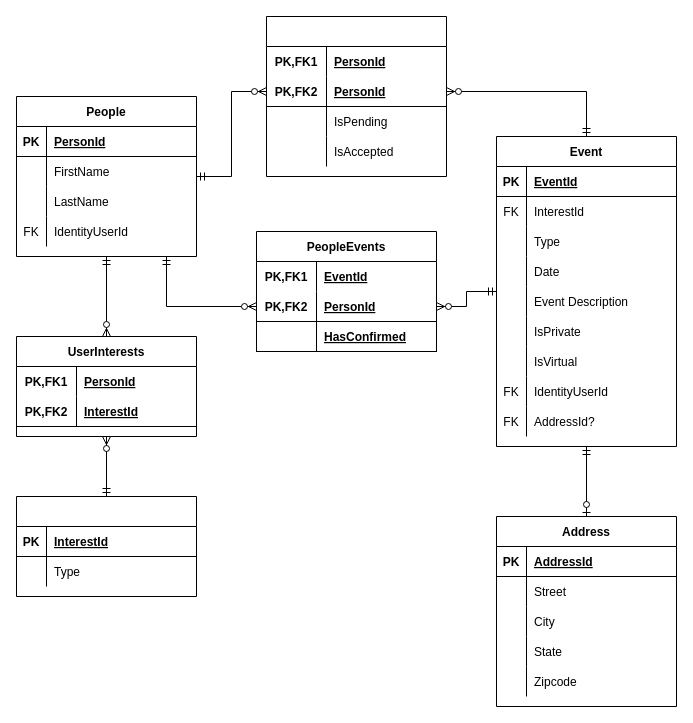
Some shapes in this 693 by 723 pixel diagram are drawn without their labels. Here are the shapes that lost their labels. From the top down, the box of each, then its label:
(266, 16, 446, 176): Friends
(16, 496, 196, 596): Interests
